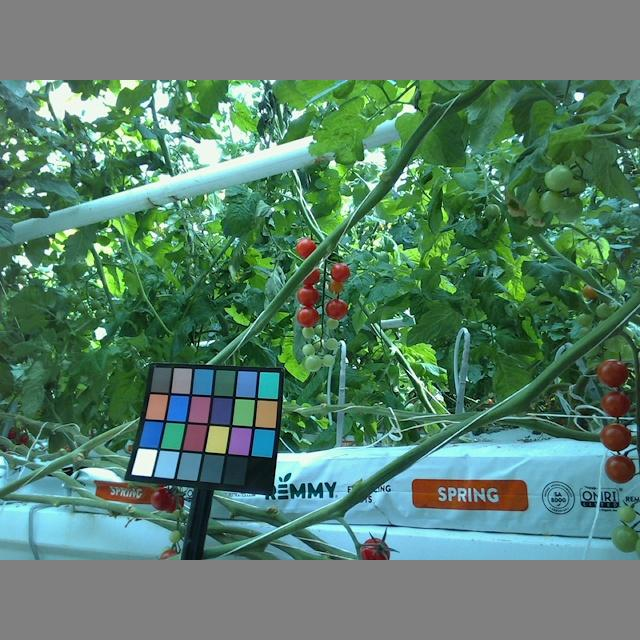green: (546, 160, 575, 190), (555, 192, 584, 222), (611, 523, 640, 551), (539, 187, 564, 215), (615, 504, 637, 526), (297, 323, 316, 340), (322, 337, 342, 351), (306, 355, 321, 372), (321, 353, 335, 368), (301, 341, 314, 355)
pink: (600, 424, 633, 454), (604, 457, 638, 482)
red: (596, 359, 630, 388), (599, 389, 631, 417), (295, 302, 318, 325), (325, 299, 348, 321), (297, 285, 318, 306), (332, 258, 351, 281), (297, 238, 315, 260)
